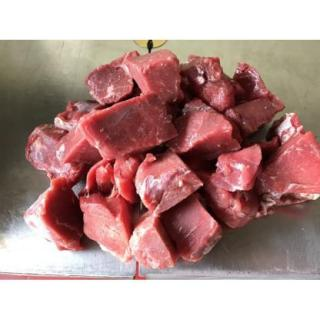Daging Sapi: (28, 55, 320, 267), (81, 99, 179, 158), (24, 178, 86, 256), (263, 134, 320, 200), (172, 100, 242, 153), (140, 154, 204, 210), (79, 194, 129, 264), (29, 127, 86, 183), (169, 206, 224, 261), (128, 51, 183, 103), (133, 216, 177, 271), (89, 54, 136, 101), (213, 148, 264, 191), (219, 151, 263, 192), (233, 63, 271, 101)
